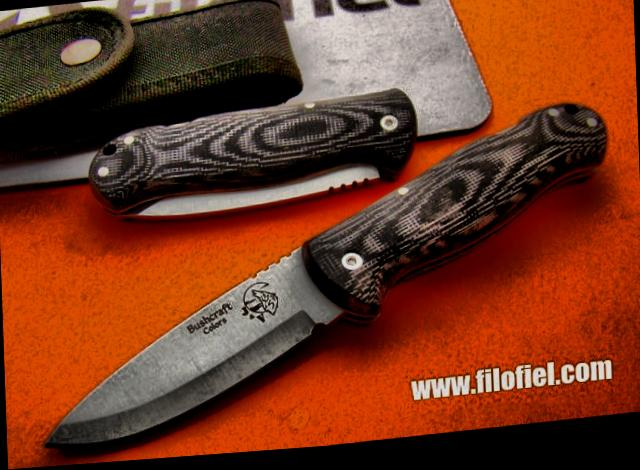knife: (19, 209, 418, 460)
